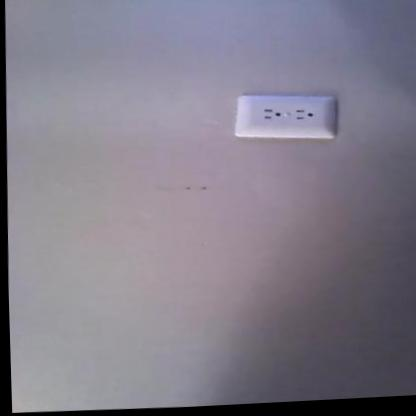OUTLET: (233, 92, 336, 142)
